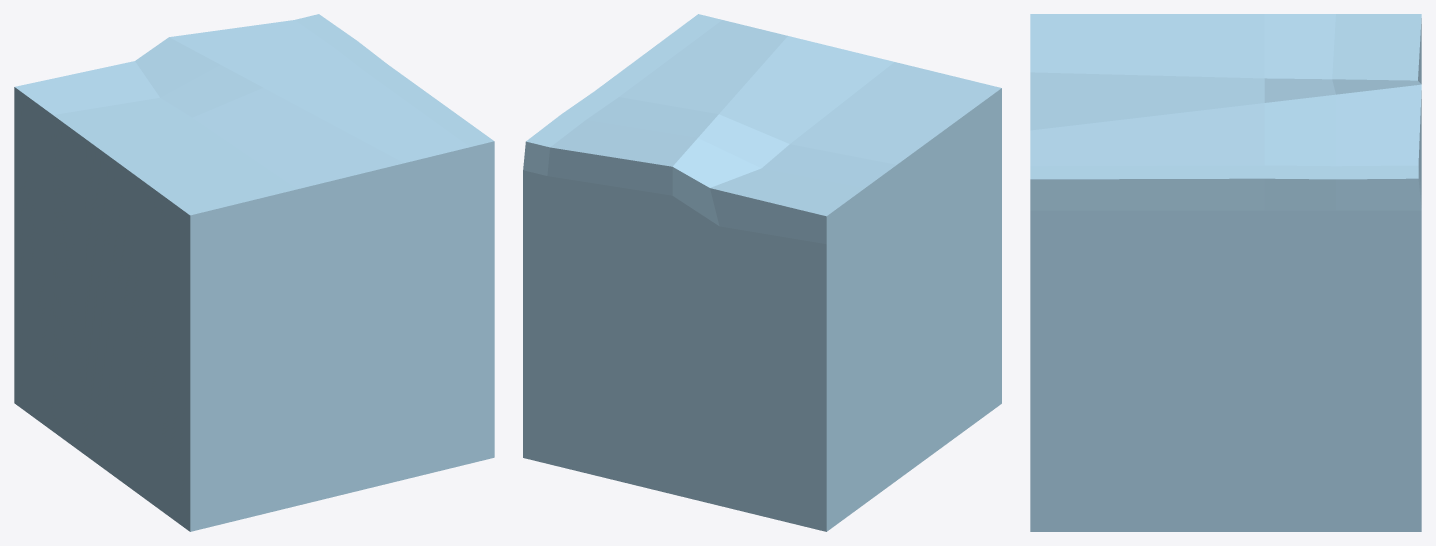
Rendered from ice_002_export_test_1_cube.gltf.glb.
The picture shows the model from 3 angles, left to right: view 1: azimuth 30°, elevation 25°; view 2: azimuth 150°, elevation 25°; view 3: azimuth 270°, elevation 25°; orthographic projection. The views are drawn at different scales.
Visible parts, largest first — view 1: ground_stone_.001; view 2: ground_stone_.001; view 3: ground_stone_.001.
Part boxes in pixels (box(x1,y1,x2,y2)): ground_stone_.001: box(14, 14, 494, 531); ground_stone_.001: box(523, 14, 1001, 531); ground_stone_.001: box(1030, 14, 1421, 531).
Bounding box in the file's own units: 2 × 2.06 × 2.
